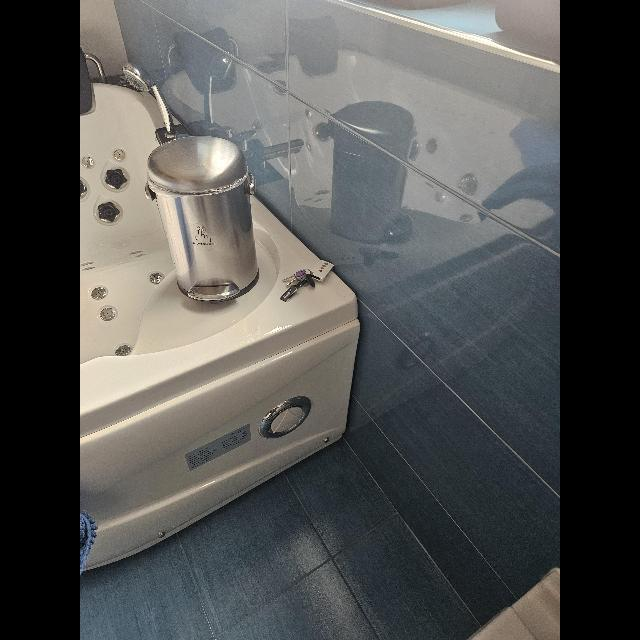Keys: (282, 264, 330, 302)
